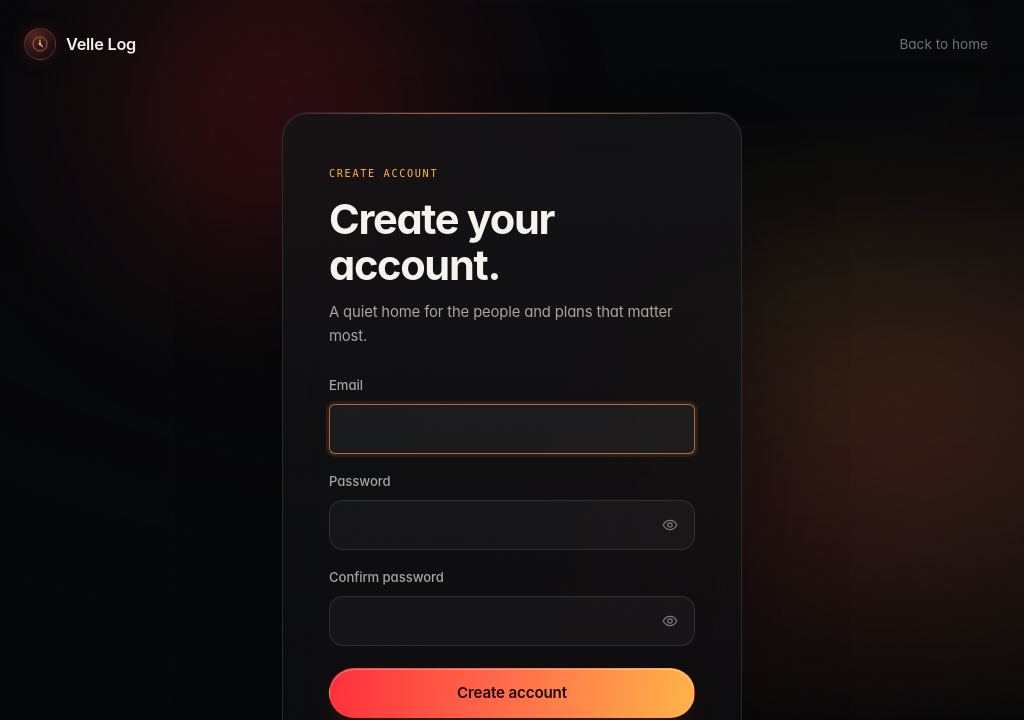
Test: SignupPage › validates email format and password length
Expected: the heading "Create your account." is shown, [329,194,554,290]
In the field labelled "Email": (512, 429) [329,404,695,454], type "not-an-email"
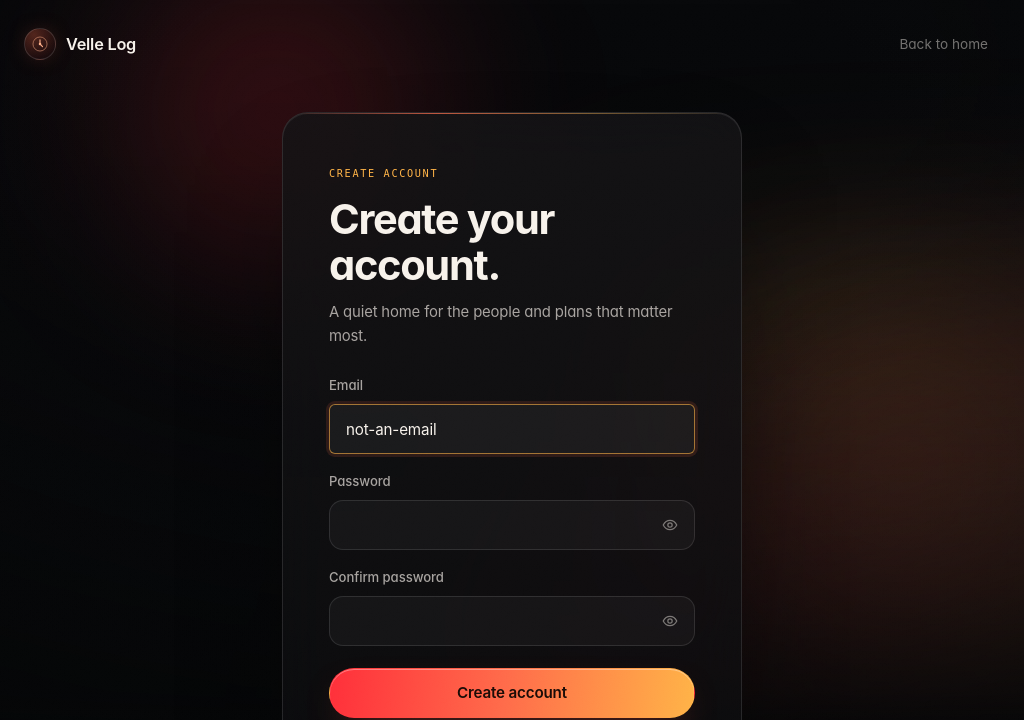
In the password field labelled "Password": (512, 525) [329,500,695,550], type "short"
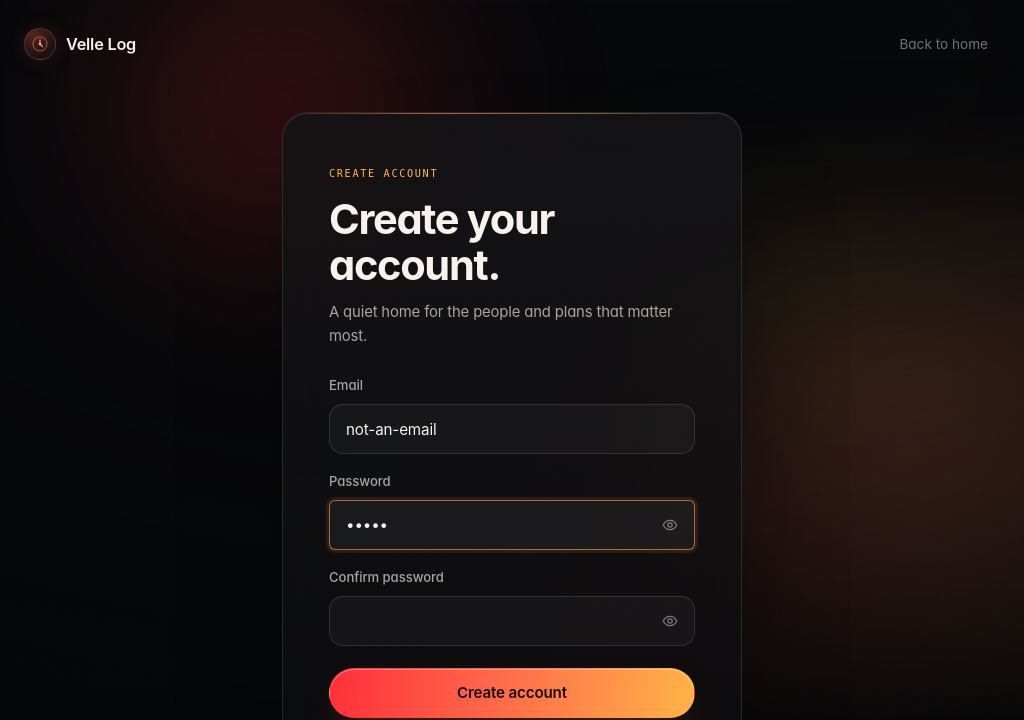
In the password field labelled "Confirm password": (512, 620) [329,596,695,646], type "short"
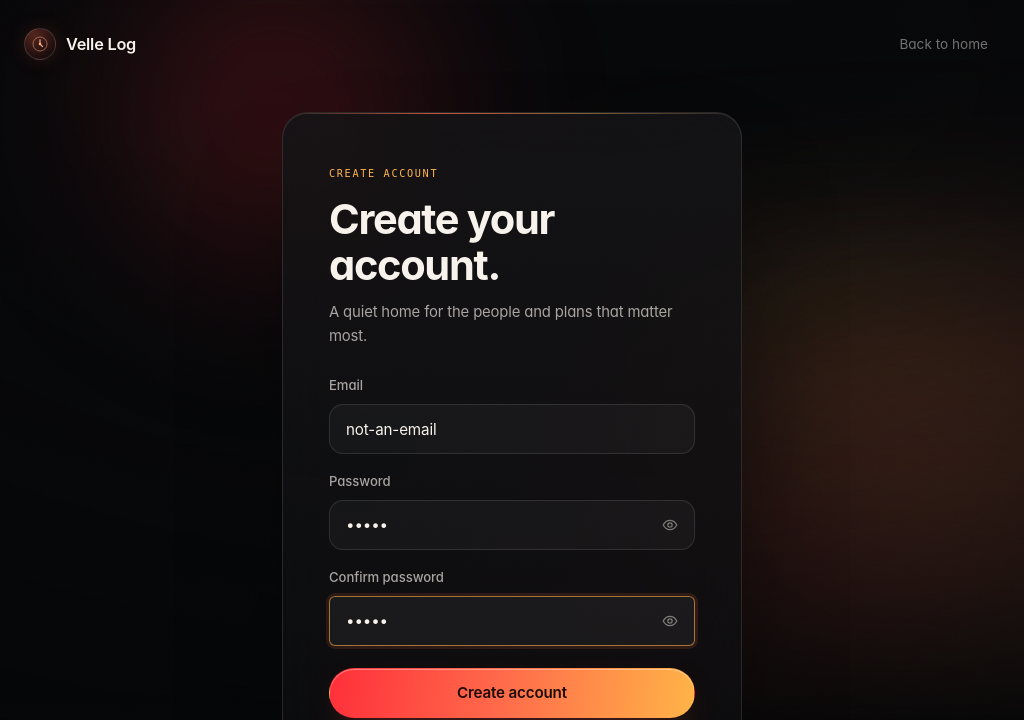
Click the button "Create account": (512, 692) [329,668,695,718]
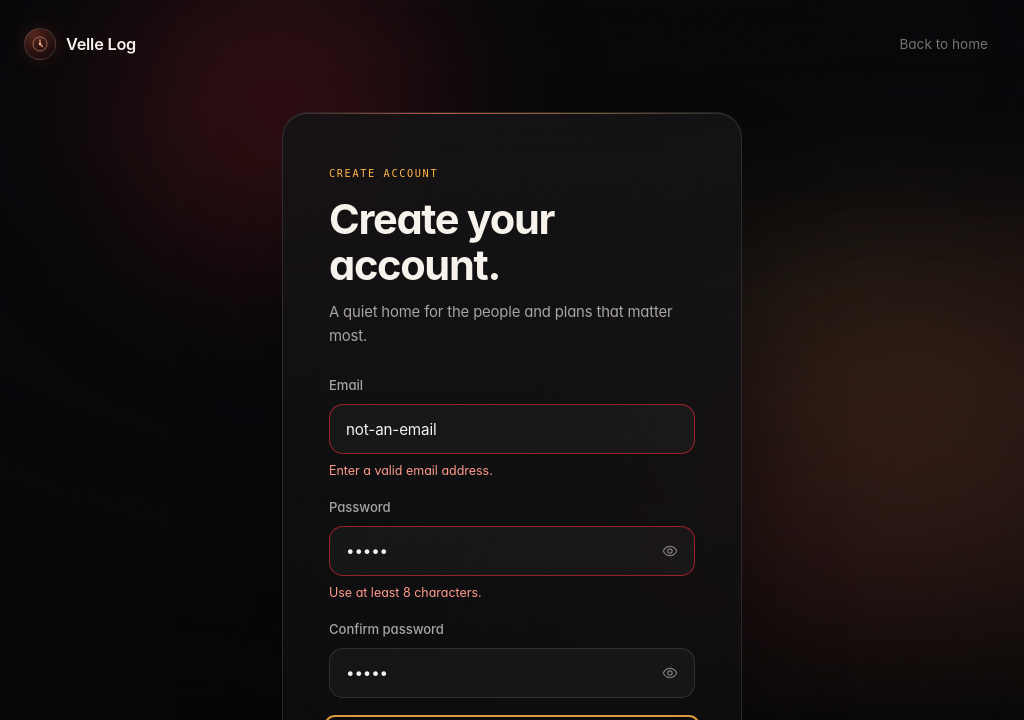
Expected: the text "Enter a valid email address." is shown, [329,463,493,478]
Expected: the text "Use at least 8 characters." is shown, [329,585,482,600]
